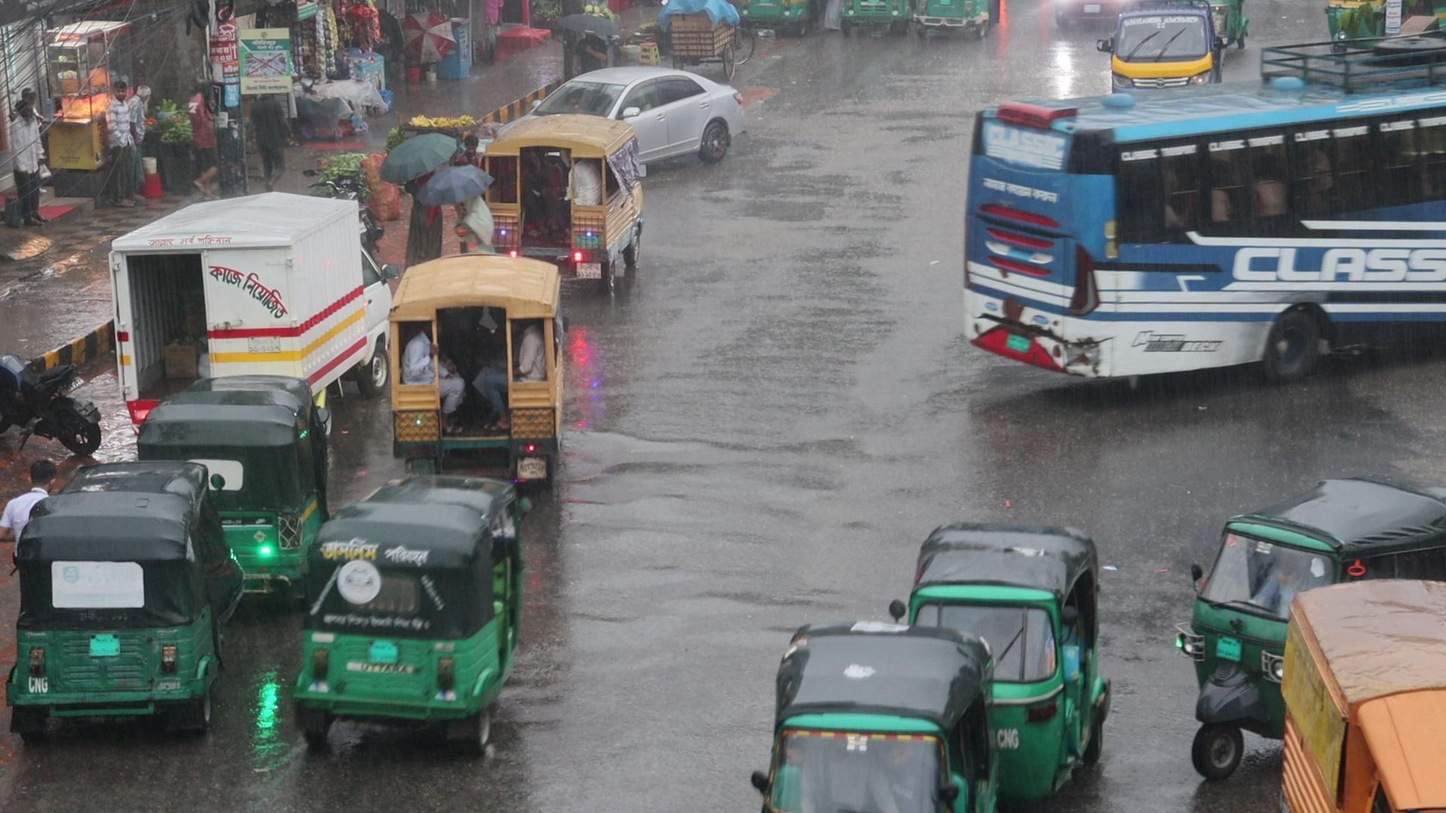Bus: (959, 40, 1446, 421)
Car: (511, 52, 750, 181)
Truck: (368, 257, 576, 511), (450, 104, 656, 296)
